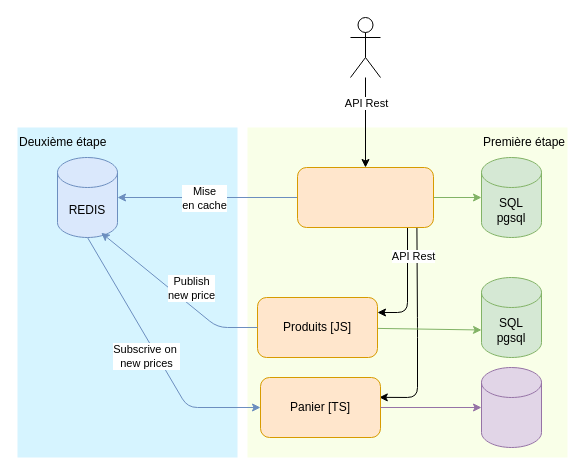
Some shapes in this 584 by 475 pixel diagram are drawn without their labels. The box of each missing label's shape, as (x1, y1, x2, y2) in pixels:
API Gateway + Auth + RBAC [TS]: (296, 166, 434, 228)
noSQL MongoDB: (480, 366, 542, 448)
